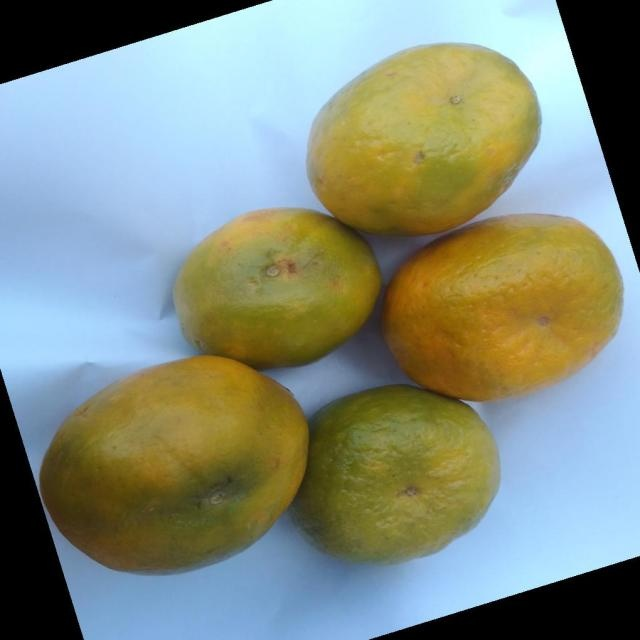agrume: (38, 353, 309, 575), (305, 40, 542, 236), (381, 211, 623, 401), (288, 382, 500, 566), (172, 206, 381, 368)
